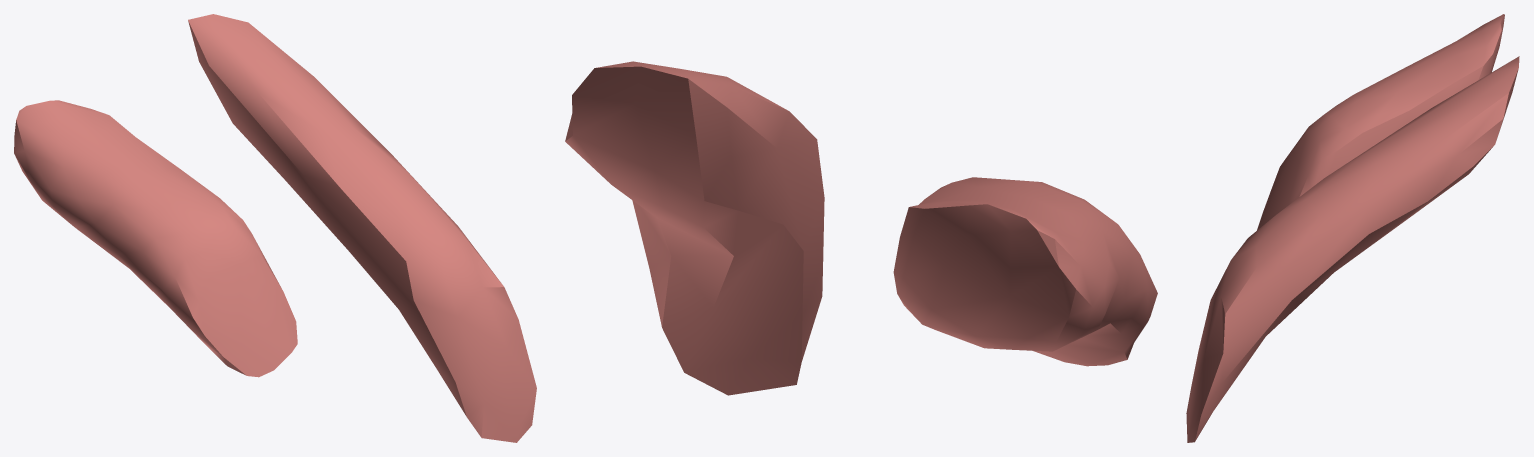
Rendered from fma42597_mm1926m.glb.
The picture shows the model from 3 angles, left to right: view 1: azimuth 30°, elevation 25°; view 2: azimuth 150°, elevation 25°; view 3: azimuth 270°, elevation 25°; orthographic projection. The views are drawn at different scales.
Parts seen in each view (by area): view 1: FMA42597_MM1926M; view 2: FMA42597_MM1926M; view 3: FMA42597_MM1926M.
Part boxes in pixels (x1,y1,x2,y2): FMA42597_MM1926M: [14, 14, 536, 442]; FMA42597_MM1926M: [565, 61, 1157, 395]; FMA42597_MM1926M: [1186, 14, 1519, 442].
Bounding box in the file's own units: 0.0146 × 0.0125 × 0.0119.
